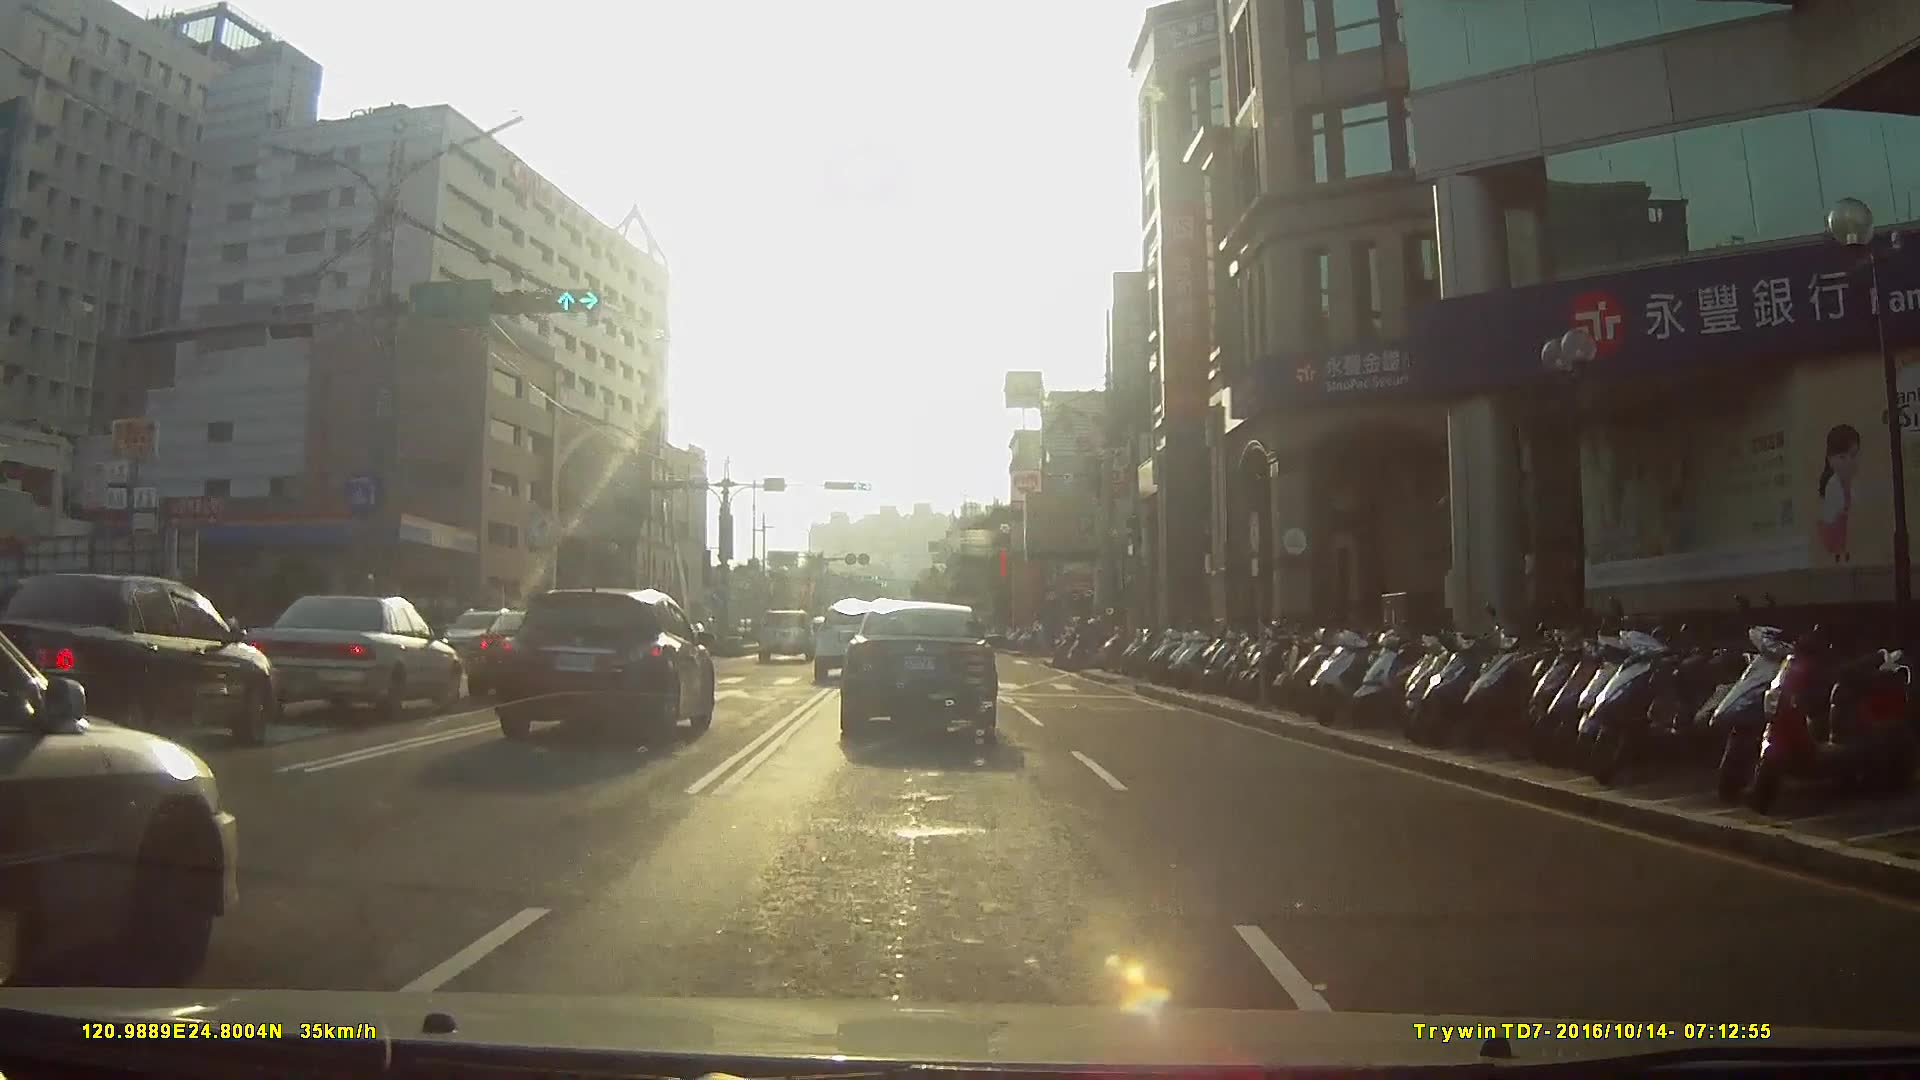rider: (1066, 620, 1120, 673)
vehicle: (1, 613, 245, 1005), (1, 569, 291, 757), (497, 588, 727, 754), (226, 592, 486, 730), (835, 601, 1016, 749), (436, 612, 573, 704), (428, 605, 568, 674), (809, 602, 888, 686), (755, 607, 814, 662)
